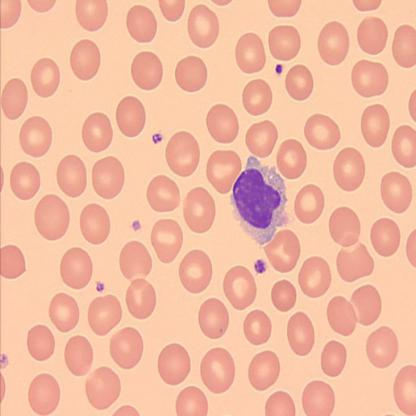Lymphocyte: (230, 155, 289, 247)
